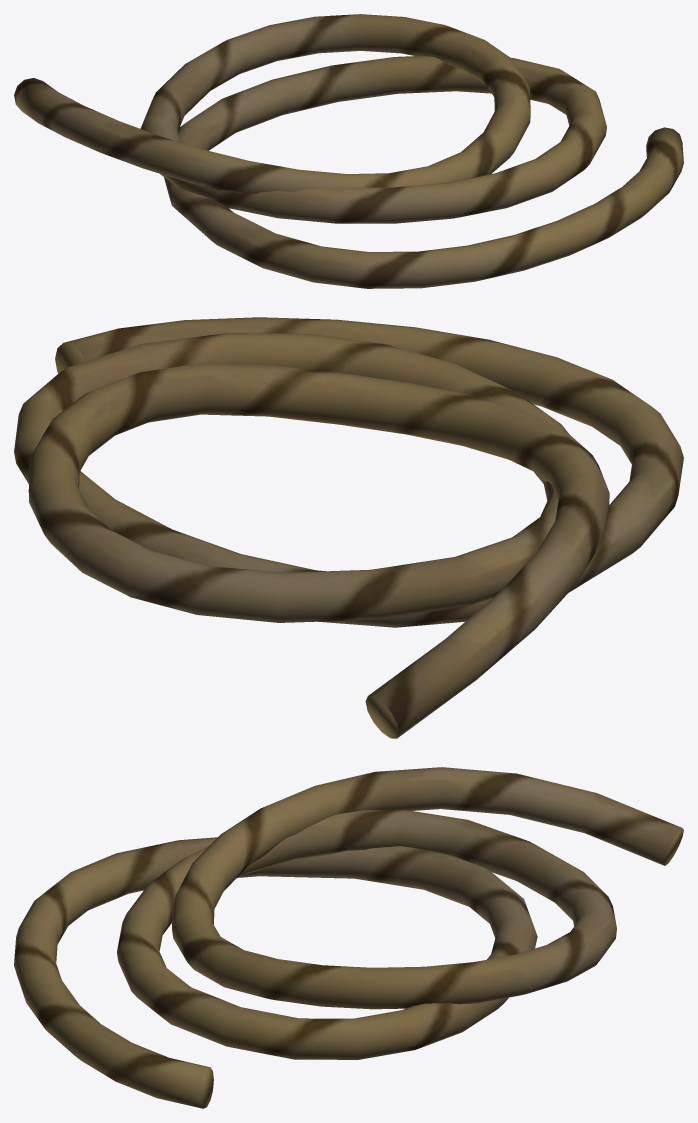
File: Rope_2.glb
3 views of the same model, one above another, from view 1: azimuth 30°, elevation 25°; view 2: azimuth 150°, elevation 25°; view 3: azimuth 270°, elevation 25° (orthographic). The views are drawn at different scales.
Parts seen in each view (by area): view 1: Rope_2; view 2: Rope_2; view 3: Rope_2.
Part boxes in pixels (bbox=[...]): Rope_2: bbox=[14, 14, 683, 288]; Rope_2: bbox=[14, 317, 683, 738]; Rope_2: bbox=[14, 767, 683, 1108].
Bounding box in the file's own units: 0.8079 × 0.1236 × 0.845.
Materials: 1 (1 with a texture image).
